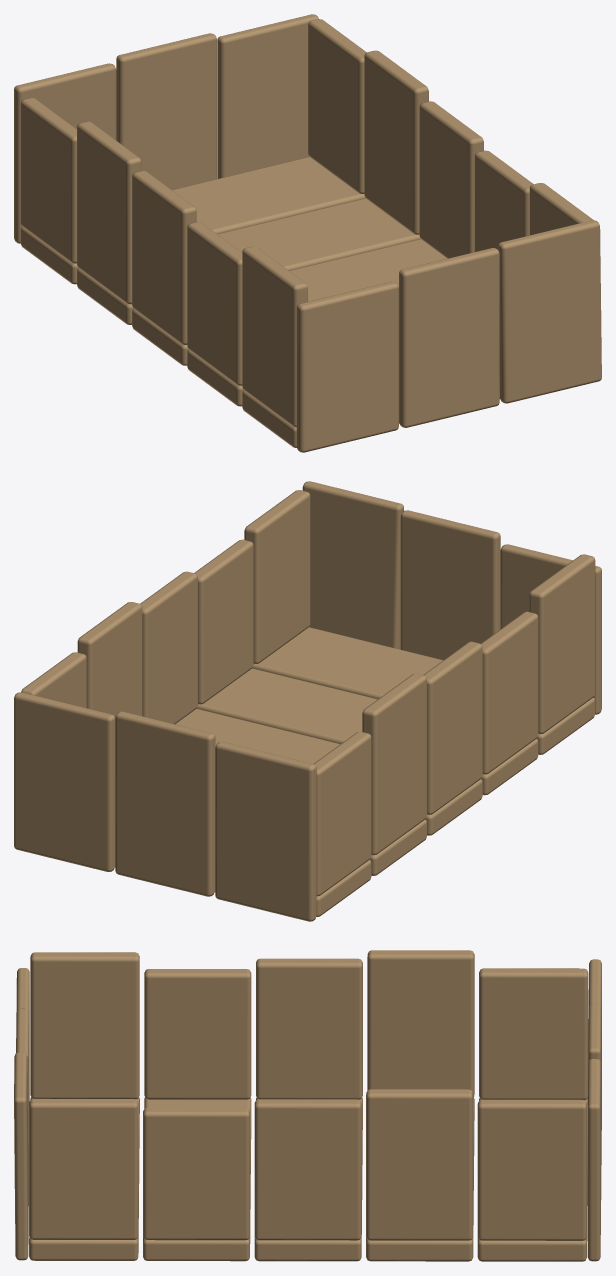
Rendered from EmptyCase.fbx.
3 views of the same model, one above another, from view 1: azimuth 30°, elevation 25°; view 2: azimuth 150°, elevation 25°; view 3: azimuth 270°, elevation 25° (orthographic).
Visible parts, largest first — view 1: Plane.008; view 2: Plane.008; view 3: Plane.008.
Part boxes in pixels (x1=…): Plane.008: x1=14, y1=14, x2=601, y2=452; Plane.008: x1=14, y1=481, x2=601, y2=921; Plane.008: x1=14, y1=950, x2=601, y2=1261.
Bounding box in the file's own units: 144 × 75.85 × 240.
